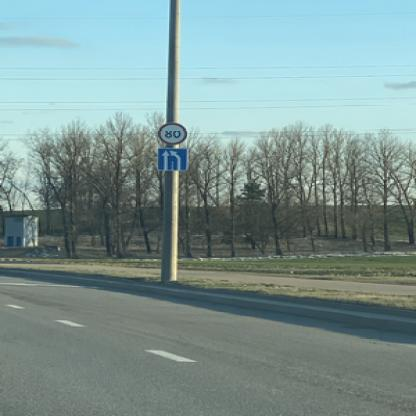speedlimit: (156, 121, 184, 144)
